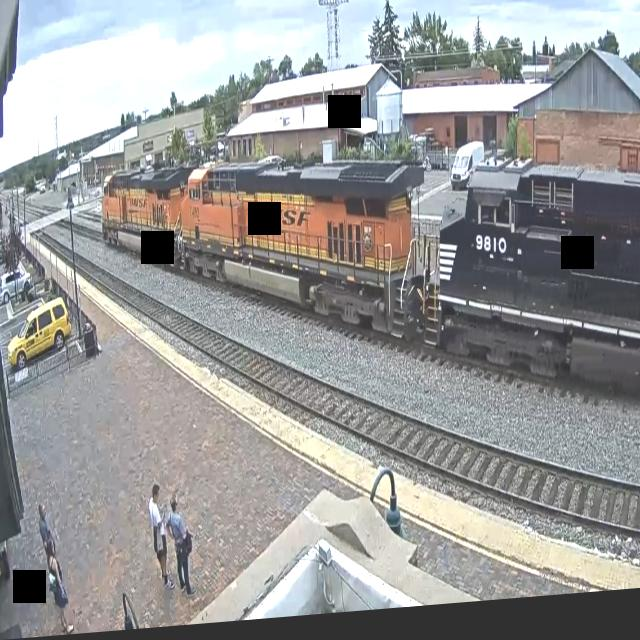locomotive: (429, 150, 640, 453), (175, 139, 434, 375), (100, 162, 192, 281)
